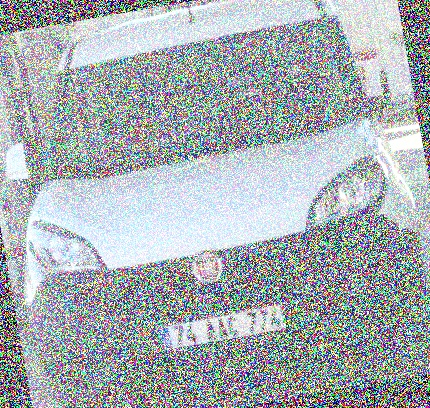plaka: (161, 301, 292, 347)
